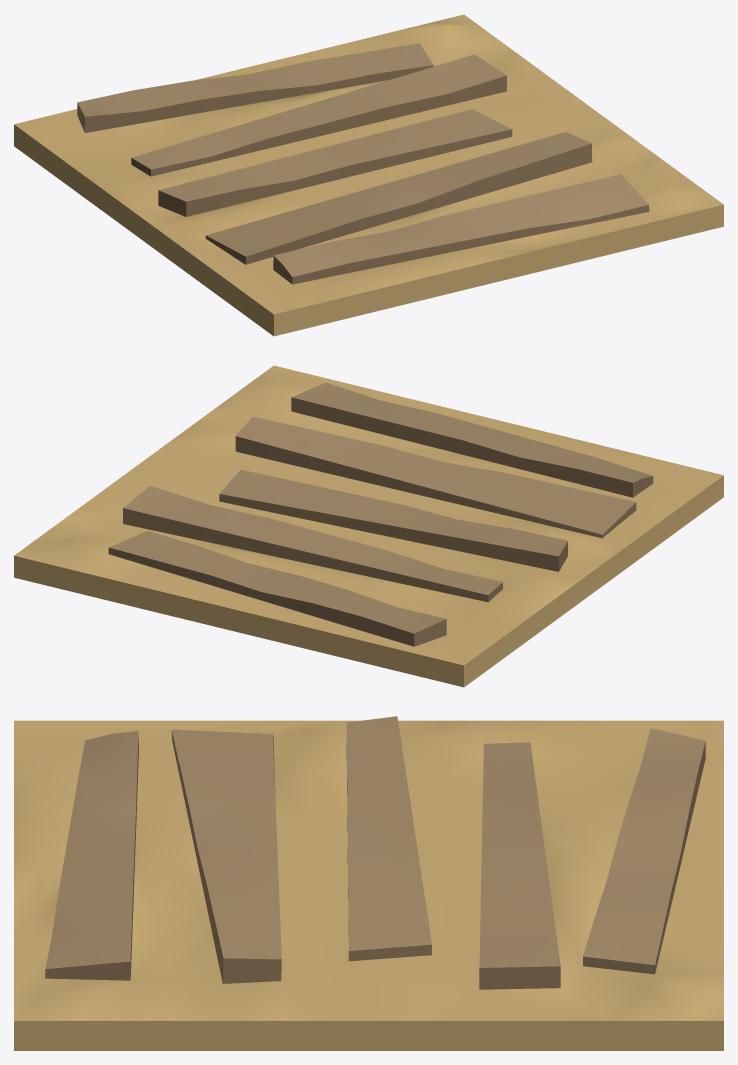
The model's file is ground_planks.dae.
3 views of the same model, one above another, from view 1: azimuth 30°, elevation 25°; view 2: azimuth 150°, elevation 25°; view 3: azimuth 270°, elevation 25° (orthographic). The views are drawn at different scales.
Parts seen in each view (by area): view 1: ground_planks; view 2: ground_planks; view 3: ground_planks.
Boxes of the visible parts, x1,y1,x2,y2 form: ground_planks: [14, 14, 723, 336]; ground_planks: [14, 365, 723, 687]; ground_planks: [14, 716, 723, 1050].
Size of the model in its own units: 2 by 2 by 0.1724.
